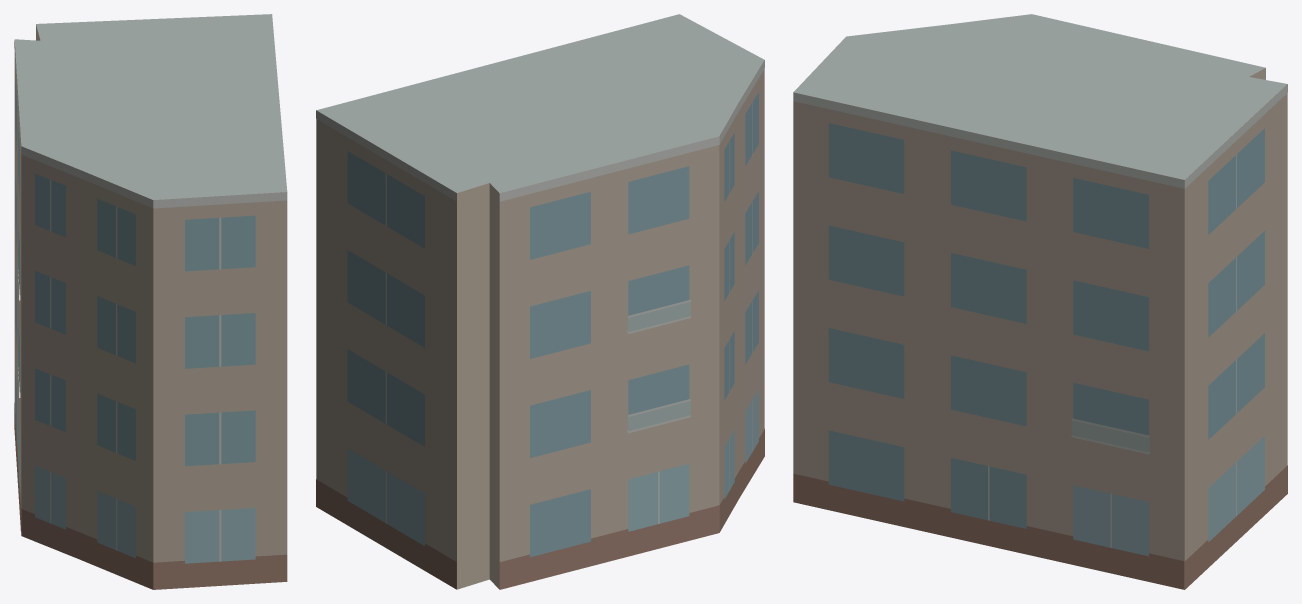
The model's file is survey-upis-33005030.glb.
The picture shows the model from 3 angles, left to right: view 1: azimuth 30°, elevation 25°; view 2: azimuth 150°, elevation 25°; view 3: azimuth 270°, elevation 25°; orthographic projection. The views are drawn at different scales.
Parts seen in each view (by area): view 1: survey-upis-33005030.tmp; view 2: survey-upis-33005030.tmp; view 3: survey-upis-33005030.tmp.
Boxes of the visible parts, left/top/right/bottom form: survey-upis-33005030.tmp: left=14, top=14, right=287, bottom=589; survey-upis-33005030.tmp: left=316, top=14, right=764, bottom=589; survey-upis-33005030.tmp: left=793, top=14, right=1287, bottom=589.
Size of the model in its own units: 9.91 by 11.4 by 12.48.
